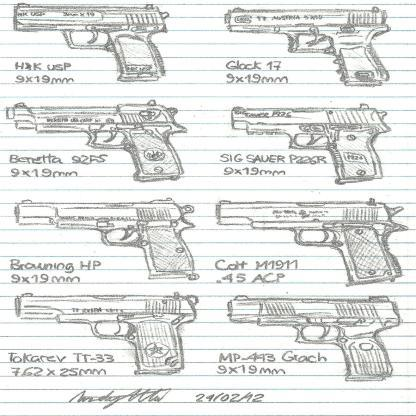pistol: (12, 289, 194, 385), (216, 197, 405, 286), (5, 197, 200, 280), (227, 293, 399, 386), (3, 101, 188, 184), (223, 6, 393, 86), (227, 103, 389, 186), (12, 1, 171, 80)
